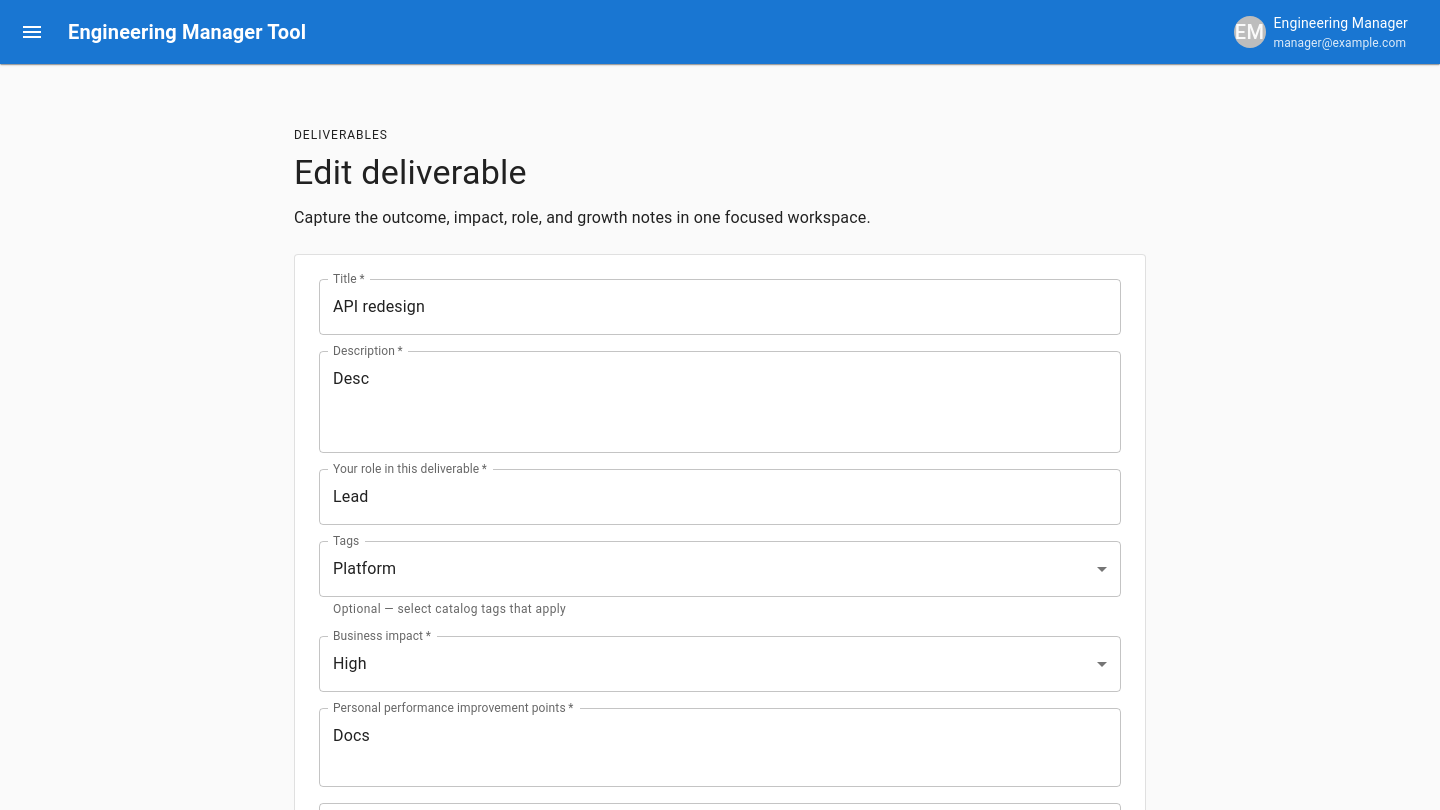
Test: US3 deliverable update › opens edit screen and saves changes
Expected: the heading "Edit deliverable" is shown, [294,152,527,192]
Replace the text in the field labelled "Title" with "API redesign v2" at (720, 307), box [319,279,1121,335]
(page scrolled)
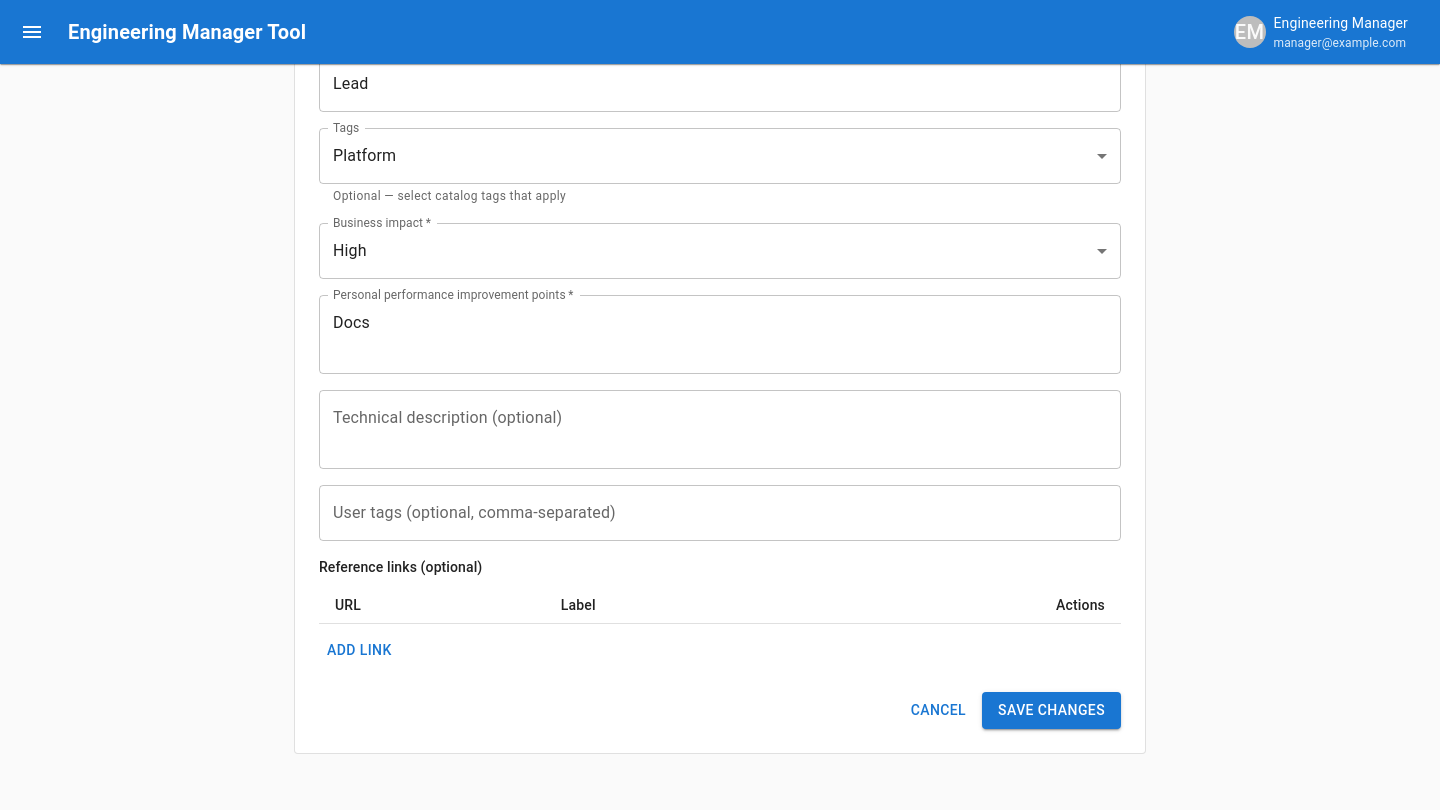
Click the button "Save changes".
click(1052, 710)  # box [982,692,1121,729]
(page scrolled)
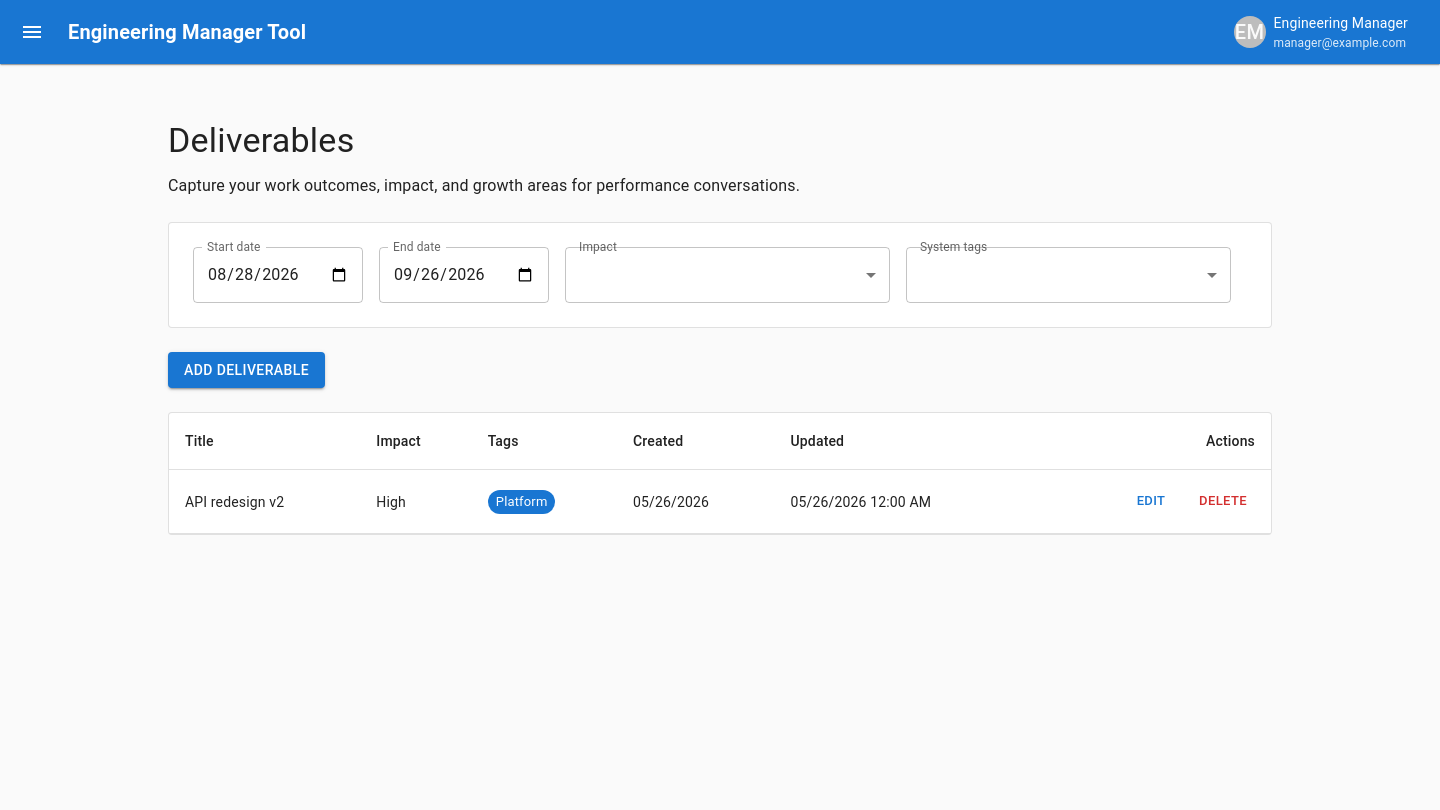
Expected: the heading "Deliverables" is shown, [168,120,354,160]
Expected: the text "API redesign v2" is shown, [169,470,360,534]
